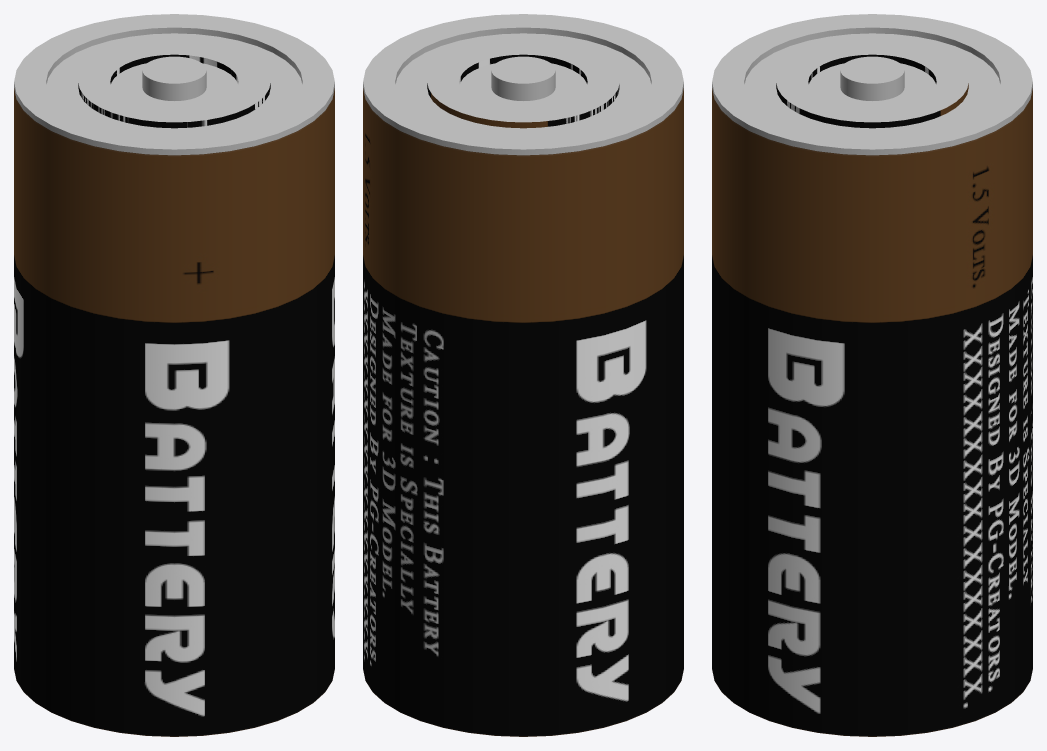
File: FlashLightBattery.fbx
3 renders of one model, left to right at view 1: azimuth 30°, elevation 25°; view 2: azimuth 150°, elevation 25°; view 3: azimuth 270°, elevation 25°, orthographic.
Visible parts, largest first — view 1: Cylinder; view 2: Cylinder; view 3: Cylinder.
Part boxes in pixels (x1,y1,x2,y2): Cylinder: (14,14,334,736); Cylinder: (363,14,683,736); Cylinder: (712,14,1032,736).
Size of the model in its own units: 14.02 by 28.88 by 14.02.
2 materials, 1 textured.
